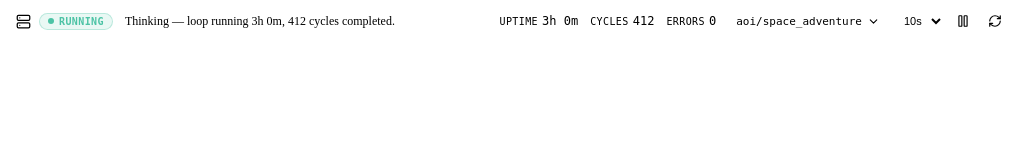
Test: StatusStrip › opens the session picker and reports a selection
Step 1. Click the button titled "aoi/space_adventure" → (808, 21), box [728,10,888,32]
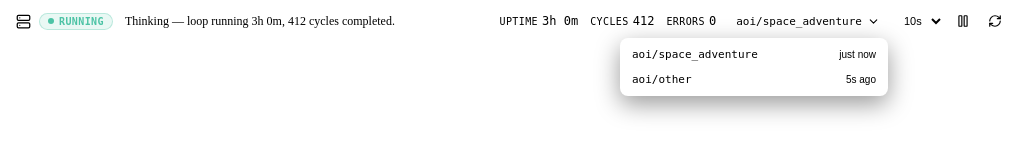
Step 2. Click the text "aoi/other" → (662, 79), box [632,72,692,86]
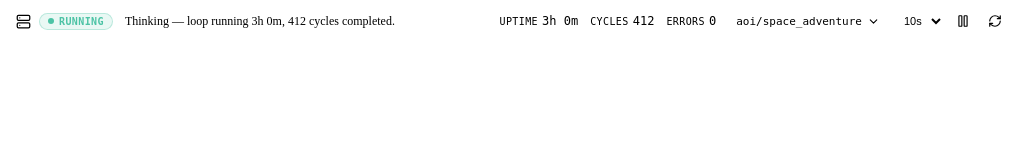
Now the list is gone
